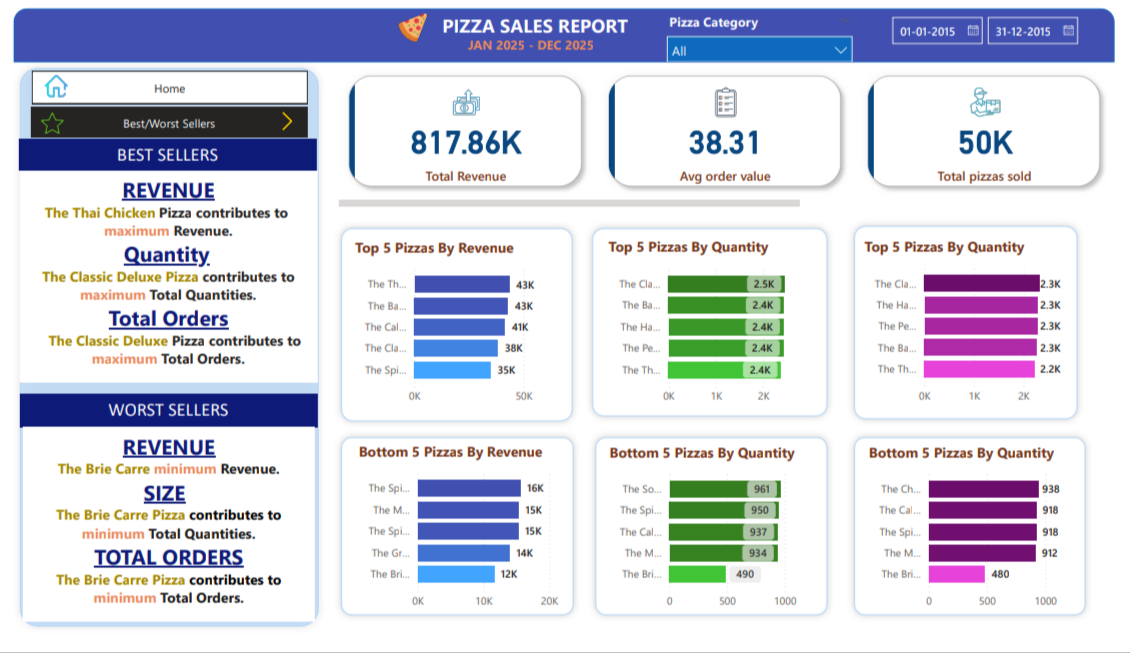

Layout of this report page (visuals, bound fields, positions):
{"tool":"powerbi","page":{"name":"Best/Worst Sellers","canvas":[1280,720],"ordinal":1},"visuals":[{"type":"shape","box":[0,61.4,359,659],"z":0},{"type":"cardVisual","fields":{"Data":["pizza_sales.Total Revenue","pizza_sales.Avg order value","pizza_sales.Total pizzas sold","pizza_sales.Total Orders","pizza_sales.AvgPizzas Per Order"]},"box":[369.9,61.4,898.8,173.5],"z":1000},{"type":"shape","box":[0,0,1268.9,62.2],"z":2000},{"type":"textbox","box":[488.9,0,295.6,51.1],"z":3000},{"type":"textbox","box":[488.9,26.7,215.6,48.9],"z":4000},{"type":"image","box":[437.8,0,44.4,44.4],"z":5000},{"type":"shape","box":[369.9,245.8,281.9,238.6],"z":6000},{"type":"shape","box":[961.4,243.4,272.3,237.3],"z":7000},{"type":"shape","box":[369.9,486.7,283.1,220.5],"z":8000},{"type":"shape","box":[961.4,486.7,281.9,220.5],"z":9000},{"type":"shape","box":[662.7,486.7,281.9,220.5],"z":10000},{"type":"textbox","box":[5.7,151.4,342.9,35.7],"z":11000},{"type":"textbox","box":[7.1,187.1,342.9,244.3],"z":12000},{"type":"textbox","box":[7.1,444.3,342.9,38.6],"z":13000},{"type":"textbox","box":[10.8,483.1,336.1,224.1],"z":14000},{"type":"slicer","fields":{"Values":["pizza_sales.pizza_category"]},"box":[743.2,0,234.1,61.4],"z":15000},{"type":"slicer","fields":{"Values":["pizza_sales.order_date"]},"box":[1000,0,234.1,75],"z":16000},{"type":"shape","box":[660.2,245.8,284.3,232.5],"z":17000},{"type":"barChart","title":"Top 5 Pizzas By Revenue","fields":{"Category":["pizza_sales.pizza_name"],"Y":["pizza_sales.Total Revenue"]},"box":[389.2,265.1,242.2,201.2],"z":18000},{"type":"barChart","title":"Bottom 5 Pizzas By Revenue","fields":{"Category":["pizza_sales.pizza_name"],"Y":["pizza_sales.Total Revenue"]},"box":[392.8,500,242.2,202.4],"z":19000},{"type":"barChart","title":"Top 5 Pizzas By Quantity","fields":{"Category":["pizza_sales.pizza_name"],"Y":["pizza_sales.Total pizzas sold"]},"box":[680.7,263.9,243.4,202.4],"z":20000},{"type":"barChart","title":"Bottom 5 Pizzas By Quantity","fields":{"Category":["pizza_sales.pizza_name"],"Y":["pizza_sales.Total pizzas sold"]},"box":[681.9,501.2,243.4,201.2],"z":21000},{"type":"barChart","title":"Top 5 Pizzas By Quantity","fields":{"Category":["pizza_sales.pizza_name"],"Y":["pizza_sales.Total Orders"]},"box":[975.9,263.9,243.4,201.2],"z":22000},{"type":"barChart","title":"Bottom 5 Pizzas By Quantity","fields":{"Category":["pizza_sales.pizza_name"],"Y":["pizza_sales.Total Orders"]},"box":[980.7,501.2,243.4,201.2],"z":23000},{"type":"pageNavigator","box":[20.3,113.5,318.2,34.5],"z":23001},{"type":"pageNavigator","box":[20.9,72.3,317.6,37.8],"z":23002},{"type":"image","box":[298.6,113.5,32.4,31.8],"z":23003},{"type":"image","box":[31.1,72.3,35.8,34.5],"z":23004},{"type":"image","box":[27,113.5,35.1,36.5],"z":23005}]}

Visuals, with their boxes in screenshot pixels (x1, y1, x2, y2), scaled from the page's 1280x720 canvas onto the 1130x653 screenshot:
shape: pyautogui.locateOnScreen(0, 56, 317, 652)
cardVisual - pizza_sales.Total Revenue x pizza_sales.Avg order value: pyautogui.locateOnScreen(327, 56, 1120, 213)
shape: pyautogui.locateOnScreen(0, 0, 1120, 56)
textbox: pyautogui.locateOnScreen(432, 0, 693, 46)
textbox: pyautogui.locateOnScreen(432, 24, 622, 69)
image: pyautogui.locateOnScreen(386, 0, 426, 40)
shape: pyautogui.locateOnScreen(327, 223, 575, 439)
shape: pyautogui.locateOnScreen(849, 221, 1089, 436)
shape: pyautogui.locateOnScreen(327, 441, 576, 641)
shape: pyautogui.locateOnScreen(849, 441, 1098, 641)
shape: pyautogui.locateOnScreen(585, 441, 834, 641)
textbox: pyautogui.locateOnScreen(5, 137, 308, 170)
textbox: pyautogui.locateOnScreen(6, 170, 309, 391)
textbox: pyautogui.locateOnScreen(6, 403, 309, 438)
textbox: pyautogui.locateOnScreen(10, 438, 306, 641)
slicer - pizza_sales.pizza_category: pyautogui.locateOnScreen(656, 0, 863, 56)
slicer - pizza_sales.order_date: pyautogui.locateOnScreen(883, 0, 1089, 68)
shape: pyautogui.locateOnScreen(583, 223, 834, 434)
"Top 5 Pizzas By Revenue" barChart: pyautogui.locateOnScreen(344, 240, 557, 423)
"Bottom 5 Pizzas By Revenue" barChart: pyautogui.locateOnScreen(347, 453, 561, 637)
"Top 5 Pizzas By Quantity" barChart: pyautogui.locateOnScreen(601, 239, 816, 423)
"Bottom 5 Pizzas By Quantity" barChart: pyautogui.locateOnScreen(602, 455, 817, 637)
"Top 5 Pizzas By Quantity" barChart: pyautogui.locateOnScreen(862, 239, 1076, 422)
"Bottom 5 Pizzas By Quantity" barChart: pyautogui.locateOnScreen(866, 455, 1081, 637)
pageNavigator: pyautogui.locateOnScreen(18, 103, 299, 134)
pageNavigator: pyautogui.locateOnScreen(18, 66, 299, 100)
image: pyautogui.locateOnScreen(264, 103, 292, 132)
image: pyautogui.locateOnScreen(27, 66, 59, 97)
image: pyautogui.locateOnScreen(24, 103, 55, 136)
